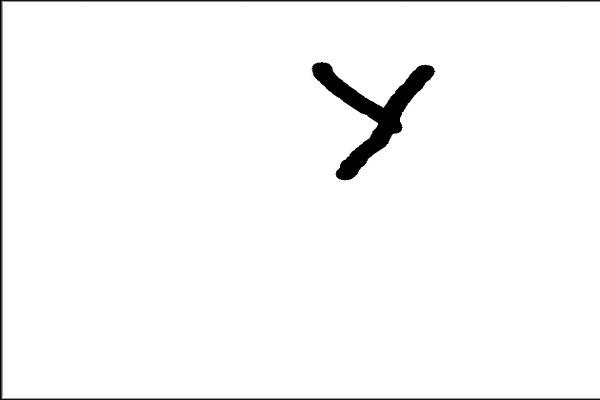Y: (303, 50, 449, 182)
